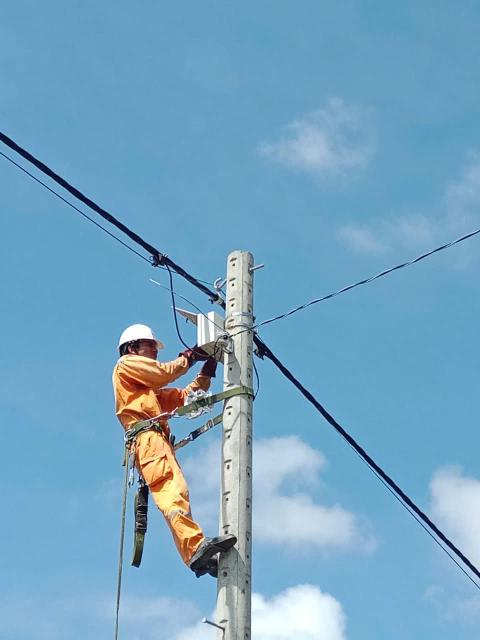gloves: (176, 336, 214, 365), (194, 346, 225, 380)
harness: (118, 418, 186, 446)
helmet: (111, 317, 164, 354)
shoes: (177, 533, 244, 567), (188, 541, 234, 580)
